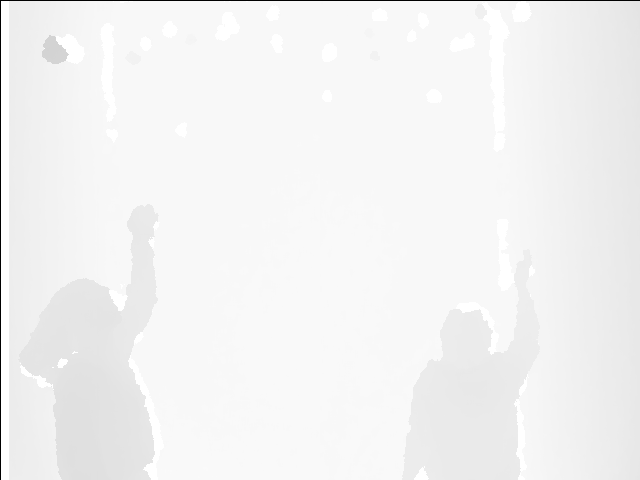hand: (128, 203, 159, 243), (512, 246, 539, 287)
